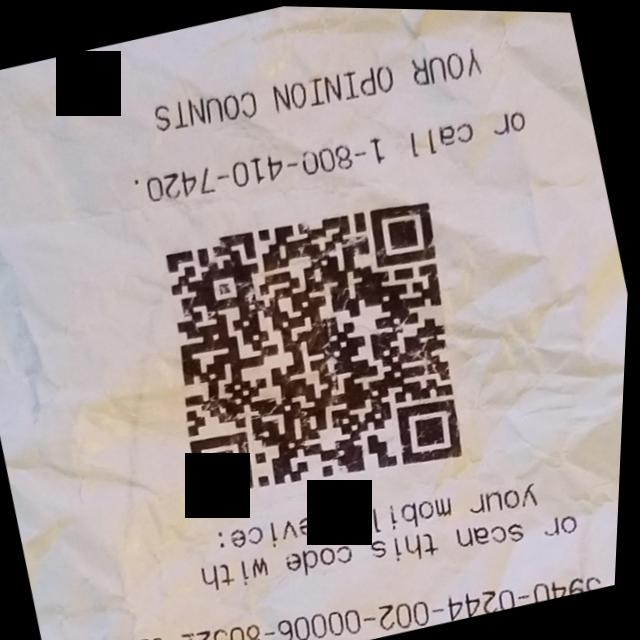QR_CODE: (130, 173, 503, 536)
